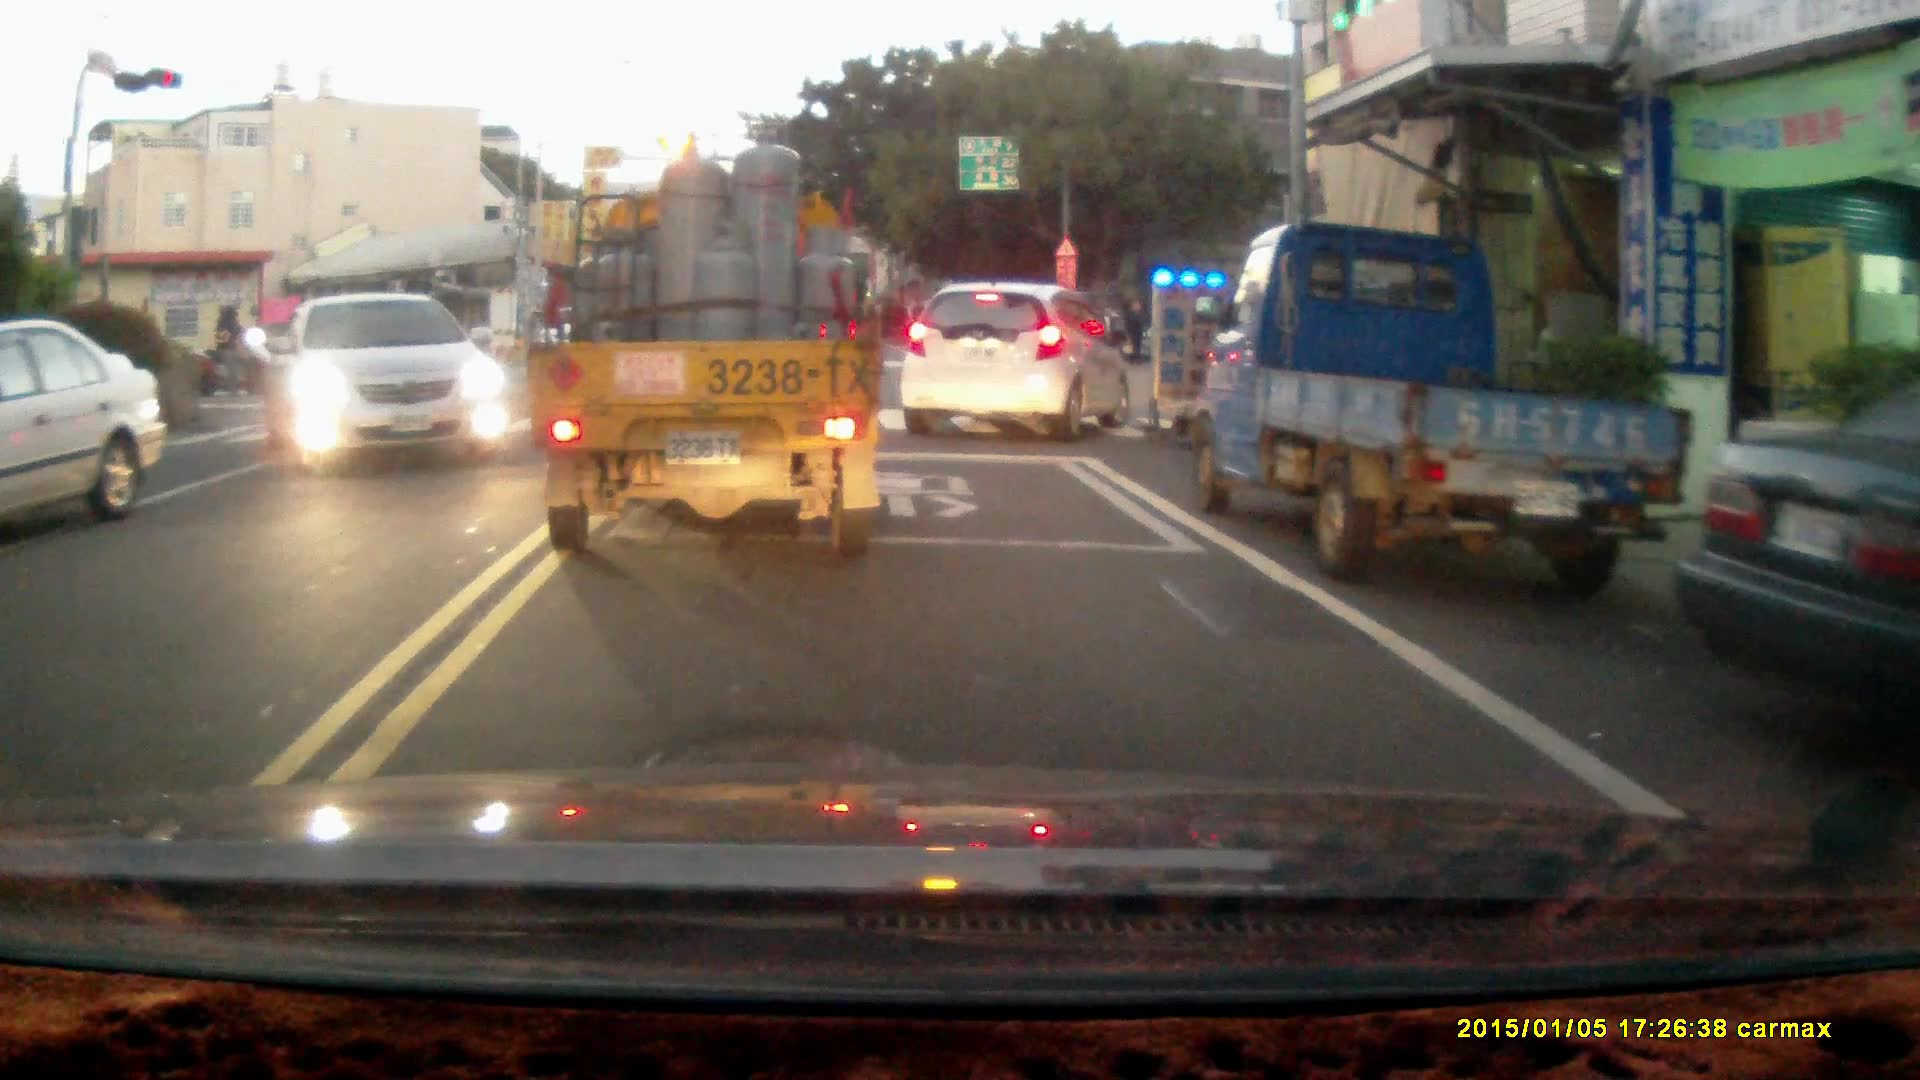rider: (192, 303, 276, 398)
vehicle: (1196, 219, 1677, 589), (534, 118, 893, 554), (260, 295, 508, 469), (901, 282, 1139, 438), (1, 321, 159, 541)
